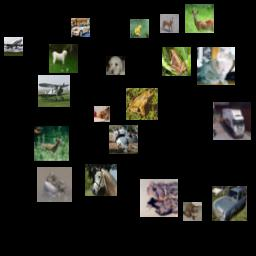airplane: (38, 75, 70, 107), (4, 37, 23, 56)
automobile: (212, 186, 247, 221), (71, 18, 90, 37)
cat: (197, 47, 235, 85), (183, 202, 202, 221)
deer: (34, 126, 69, 161), (185, 4, 214, 33)
dog: (49, 44, 78, 73), (106, 56, 125, 75), (160, 14, 179, 33), (94, 106, 110, 122)
frog: (140, 179, 178, 217), (37, 167, 72, 202), (126, 88, 158, 120), (162, 47, 191, 76), (130, 19, 149, 38)
truck: (213, 102, 251, 140)
